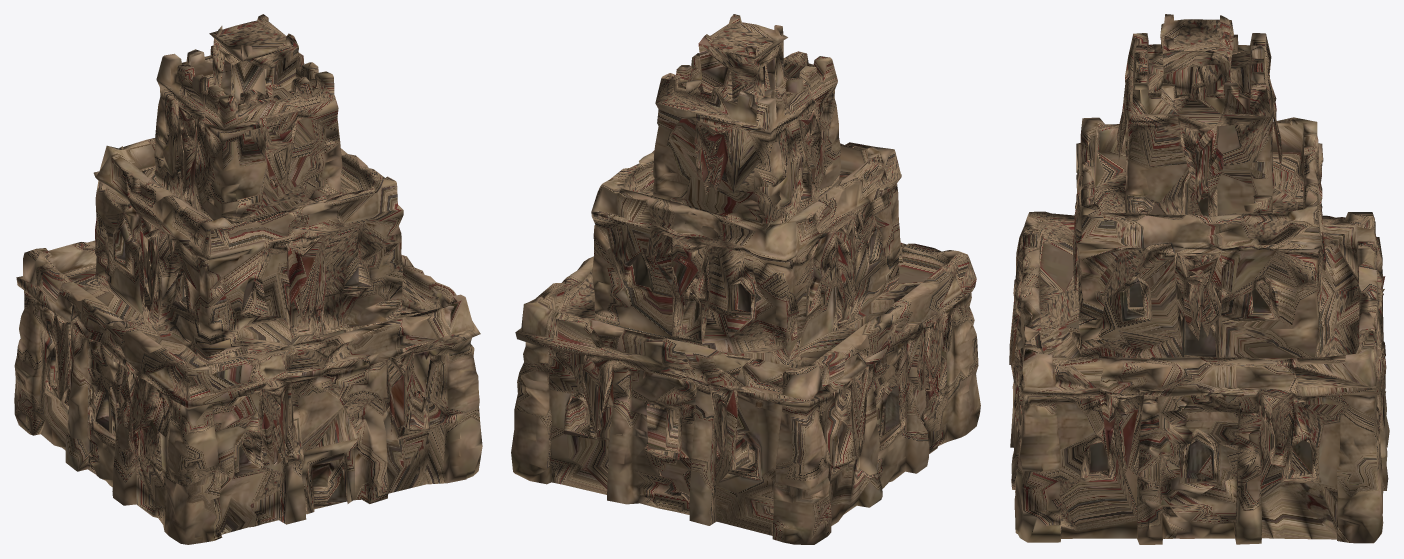
Rendered from jedhatower.lod1.glb.
3 views of the same model, side by side, from view 1: azimuth 30°, elevation 25°; view 2: azimuth 150°, elevation 25°; view 3: azimuth 270°, elevation 25° (orthographic). The views are drawn at different scales.
Visible parts, largest first — view 1: jedhatower-centred; view 2: jedhatower-centred; view 3: jedhatower-centred.
Boxes of the visible parts, x1,y1,x2,y2 form: jedhatower-centred: (14,14,482,544); jedhatower-centred: (511,14,980,544); jedhatower-centred: (1009,14,1389,544).
Size of the model in its own units: 17.11 by 22 by 17.17.
1 material, 1 textured.
